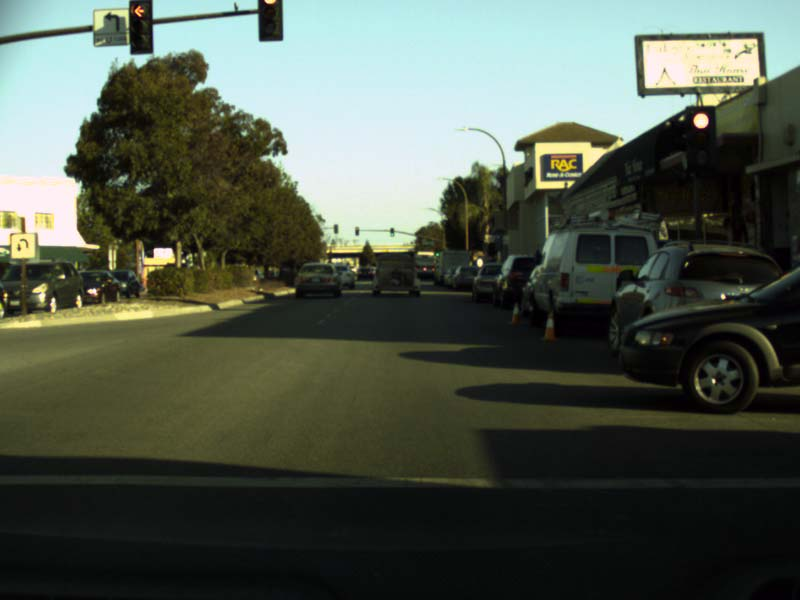Green: (434, 248, 439, 256), (389, 227, 393, 236)
Red: (687, 107, 716, 174), (129, 0, 152, 52), (354, 227, 358, 235)
